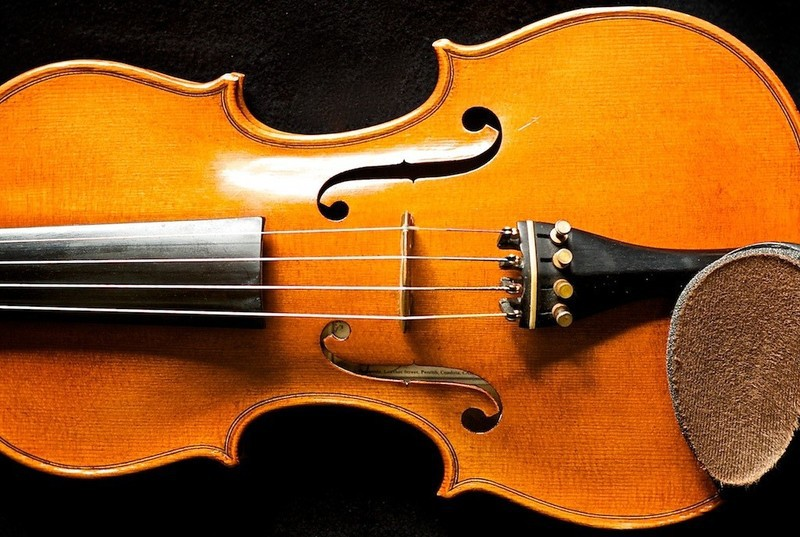Fiddle: (24, 44, 783, 506)
